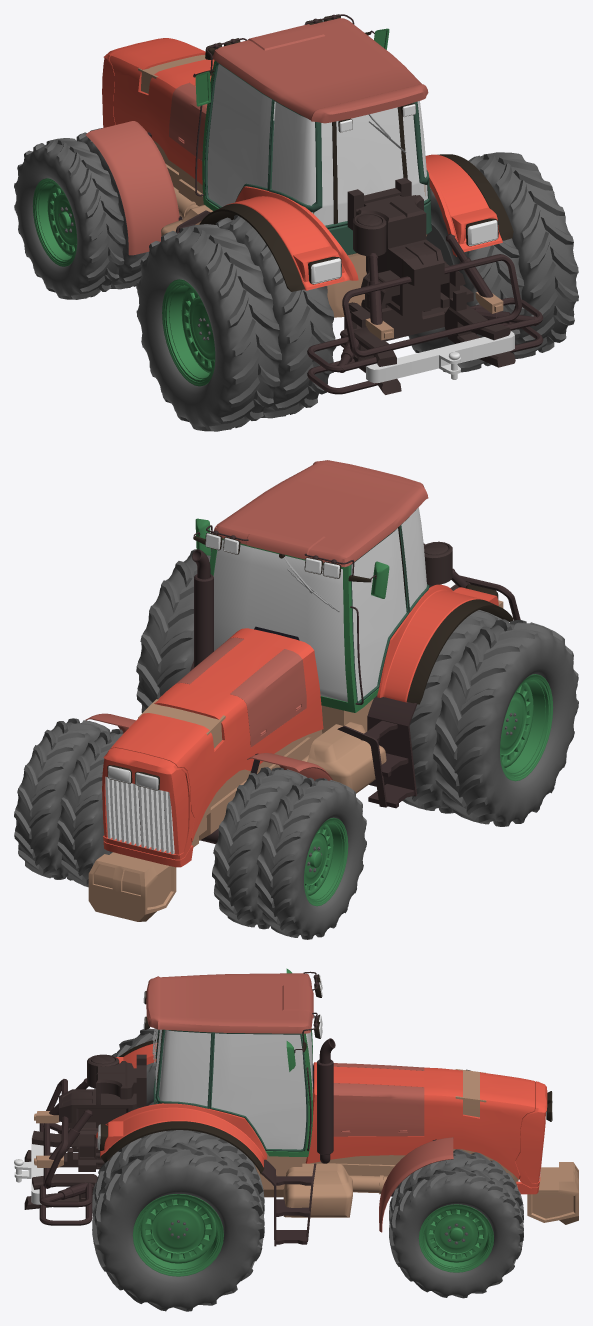
Rendered from Трахтер3.0.fbx.
The picture shows the model from 3 angles, top to bottom: view 1: azimuth 30°, elevation 25°; view 2: azimuth 150°, elevation 25°; view 3: azimuth 270°, elevation 25°; orthographic projection. The views are drawn at different scales.
Visible parts, largest first — view 1: subD_5, Non_subD_R.002, Non_subD_0, Non_subD_R, subD_3.003, subD_2.007, subD_3.002, subD_3.001, Cube.001, subD_2.006; view 2: subD_5, Non_subD_R.002, Non_subD_0, Non_subD_1, subD_3.004, Non_subD_R, subD_2.007, subD_3.002, subD_3.001, subD_2.003, subD_2.004; view 3: subD_5, Non_subD_R, Non_subD_1, subD_2.007, subD_3.002, subD_3.001, Non_subD_R.002, Cube.001.
Boxes of the visible parts, x1=… form: subD_5: x1=86, y1=14, x2=543, y2=394; Non_subD_R.002: x1=136, y1=215, x2=336, y2=431; Non_subD_0: x1=14, y1=128, x2=148, y2=299; Non_subD_R: x1=408, y1=152, x2=578, y2=372; subD_3.003: x1=312, y1=107, x2=427, y2=225; subD_2.007: x1=207, y1=64, x2=271, y2=206; subD_3.002: x1=271, y1=101, x2=426, y2=205; subD_3.001: x1=204, y1=61, x2=431, y2=255; Cube.001: x1=366, y1=331, x2=514, y2=383; subD_2.006: x1=311, y1=220, x2=498, y2=283; subD_5: x1=85, y1=460, x2=520, y2=921; Non_subD_R.002: x1=402, y1=610, x2=578, y2=826; Non_subD_0: x1=212, y1=767, x2=366, y2=939; Non_subD_1: x1=14, y1=718, x2=123, y2=887; subD_3.004: x1=213, y1=540, x2=347, y2=701; Non_subD_R: x1=136, y1=548, x2=211, y2=712; subD_2.007: x1=351, y1=528, x2=406, y2=701; subD_3.002: x1=401, y1=507, x2=426, y2=607; subD_3.001: x1=350, y1=510, x2=429, y2=703; subD_2.003: x1=205, y1=533, x2=339, y2=578; subD_2.004: x1=108, y1=766, x2=158, y2=790; subD_5: x1=24, y1=971, x2=578, y2=1246; Non_subD_R: x1=92, y1=1130, x2=264, y2=1311; Non_subD_1: x1=389, y1=1149, x2=523, y2=1298; subD_2.007: x1=211, y1=1033, x2=306, y2=1149; subD_3.002: x1=158, y1=1030, x2=210, y2=1106; subD_3.001: x1=153, y1=1029, x2=308, y2=1151; Non_subD_R.002: x1=94, y1=1028, x2=158, y2=1105; Cube.001: x1=14, y1=1137, x2=43, y2=1204.
Size of the model in its own units: 452 by 366 by 756.
